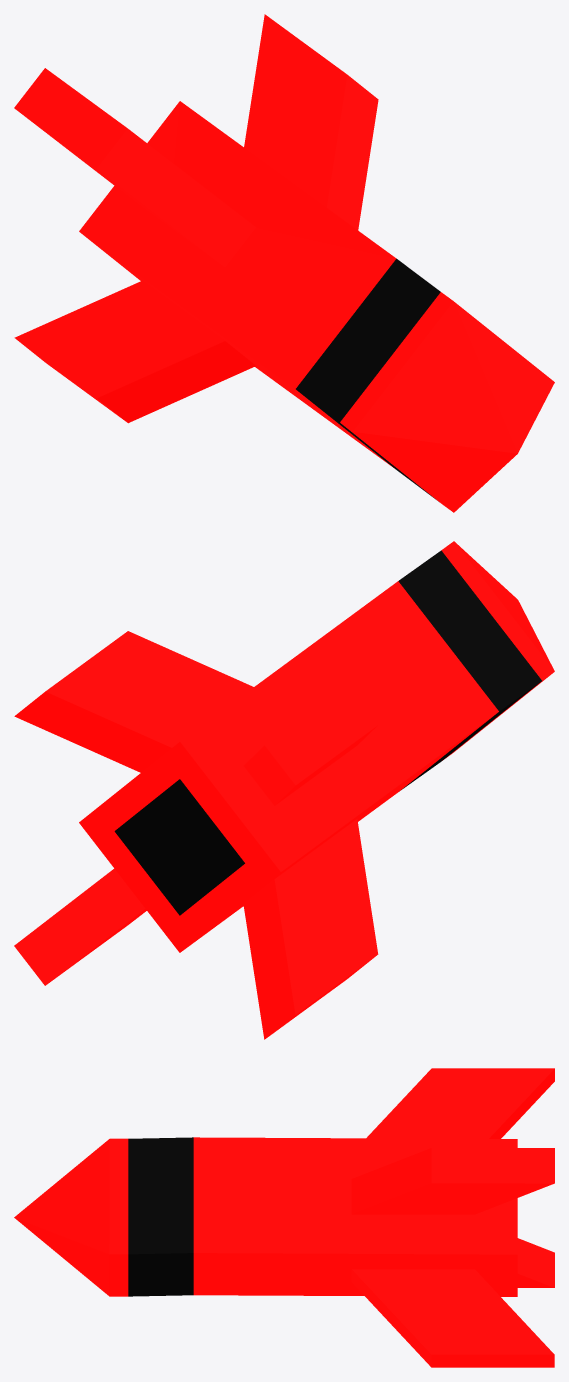
The model's file is RocketProjectile.fbx.
The picture shows the model from 3 angles, top to bottom: view 1: azimuth 30°, elevation 25°; view 2: azimuth 150°, elevation 25°; view 3: azimuth 270°, elevation 25°; orthographic projection. The views are drawn at different scales.
Parts seen in each view (by area): view 1: Projectile_Rocket; view 2: Projectile_Rocket; view 3: Projectile_Rocket.
Boxes of the visible parts, x1,y1,x2,y2 form: Projectile_Rocket: (14, 14, 554, 512); Projectile_Rocket: (14, 541, 554, 1039); Projectile_Rocket: (14, 1068, 554, 1367).
Size of the model in its own units: 1.56 by 3.49 by 1.56.
